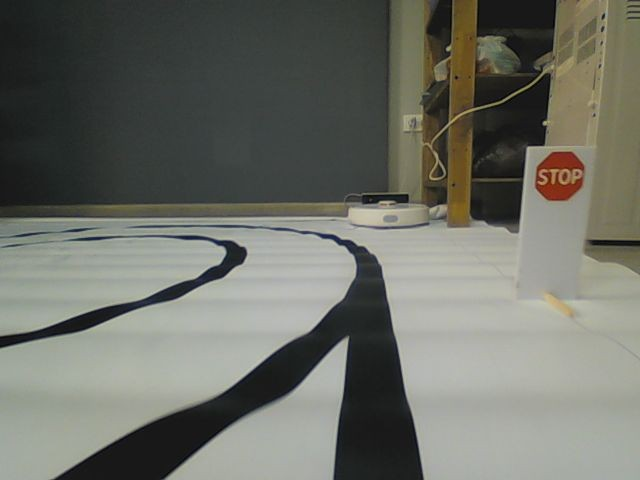Stop: (533, 149, 586, 202)
